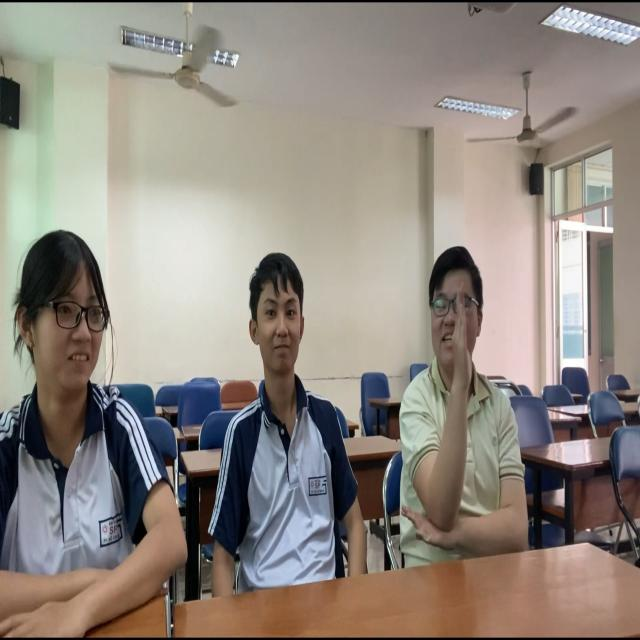raise_hand: (399, 234, 498, 528)
